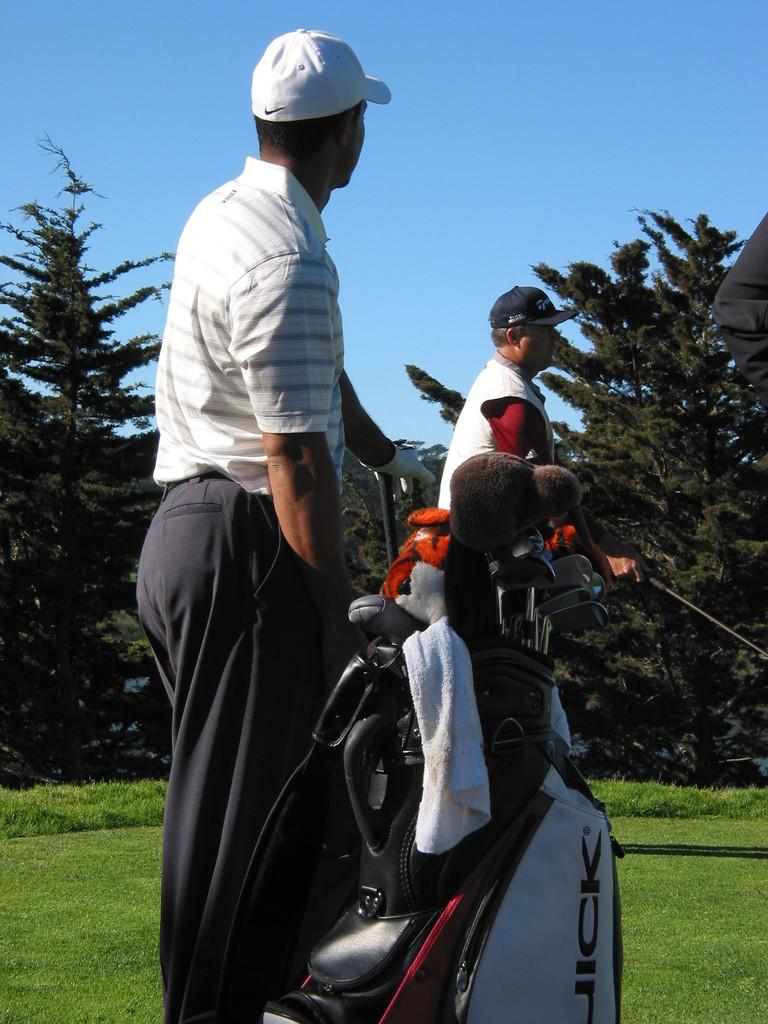Hat: (248, 28, 393, 126), (484, 282, 583, 330)
